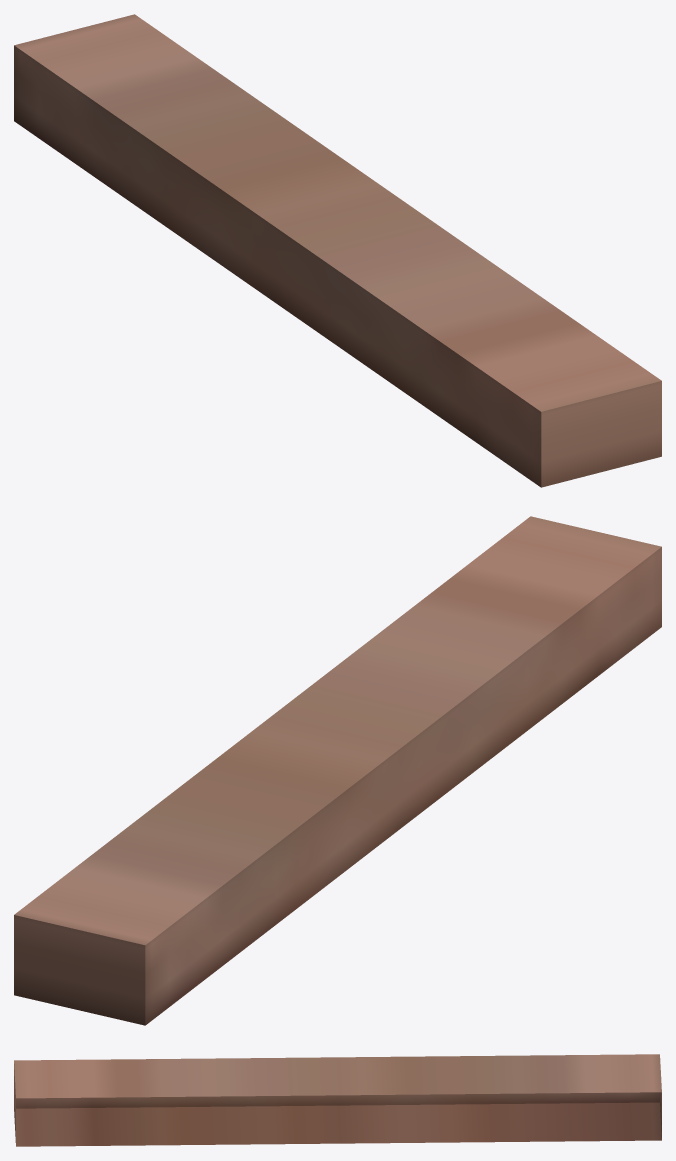
File: object_632_lev3.glb
3 renders of one model, top to bottom at view 1: azimuth 30°, elevation 25°; view 2: azimuth 150°, elevation 25°; view 3: azimuth 270°, elevation 25°, orthographic. The views are drawn at different scales.
Parts seen in each view (by area): view 1: object_632_lev3; view 2: object_632_lev3; view 3: object_632_lev3.
Part boxes in pixels (x1,y1,x2,y2): object_632_lev3: [14, 14, 661, 487]; object_632_lev3: [14, 516, 661, 1025]; object_632_lev3: [14, 1054, 661, 1146].
Bounding box in the file's own units: 0.2419 × 0.1232 × 1.5.
1 material, 1 textured.
